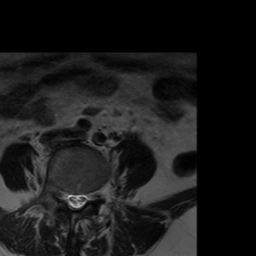CCS_stenosis: (73, 182, 81, 217)
LFS_normal: (88, 181, 96, 209)
LLS_normal: (81, 184, 88, 212)
RFS_normal: (55, 177, 64, 207)
RLS_normal: (64, 182, 73, 211)
